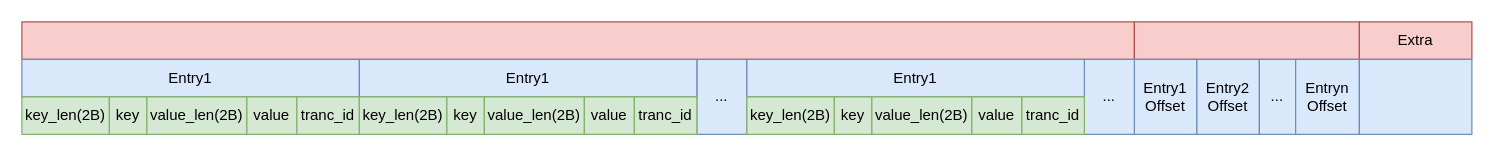
Image size: 1494x156. Some labels were removed from this diagram. Here are the shapes that lost their labels. From the top down, the centre of each, then its label:
the point at 577,40: Data
the point at 1246,40: Offset
the point at 1415,96: Entryn Num
